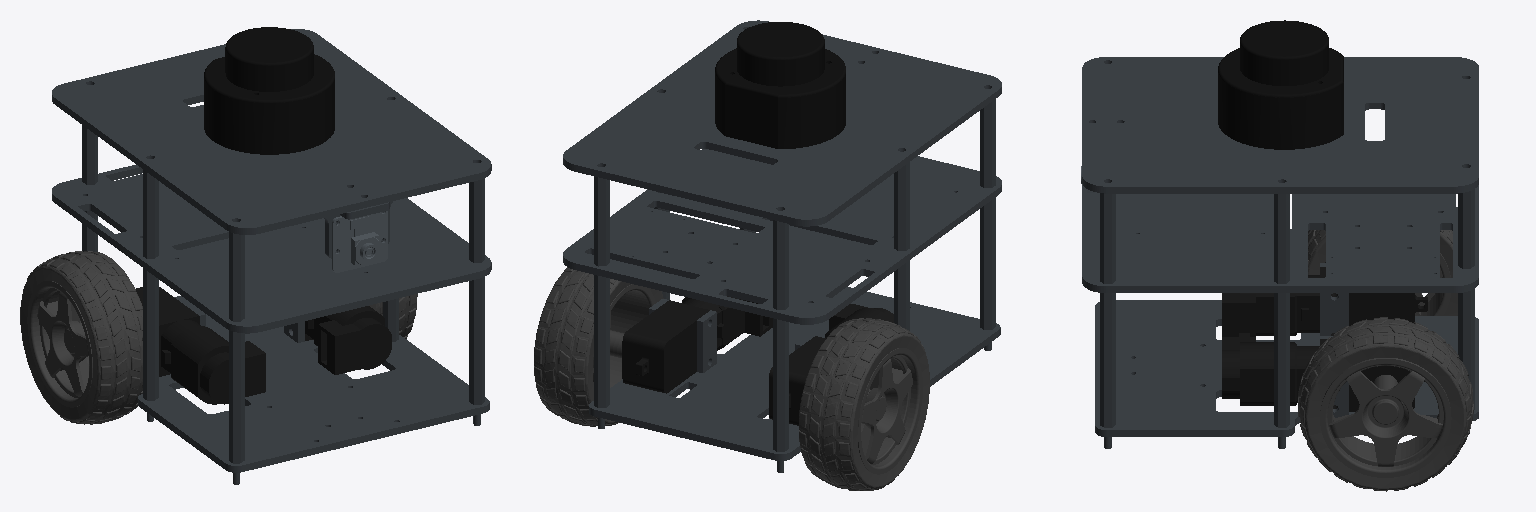
robot.urdf — fastbot:
<?xml version="1.0" ?>
<!-- Generated using onshape-to-robot -->
<!-- Onshape document_id: 4757b8f98f7afcc7c3655639 -->
<robot name="fastbot" xmlns:xacro="http://ros.org/wiki/xacro">
  <!-- <xacro:property name="PI" value="3.141592653589793" />
  <xacro:macro name="fastbot" params="robot_name"> -->


    <!-- Link fastbot_chassis -->
    <link name="base_link">
        <inertial>
            <origin xyz="1.61253e-05 0.000669263 0.059916" rpy="0 0 0"/>
            <mass value="0.24695"/>
            <inertia ixx="0.000946018" ixy="-8.62213e-08" ixz="-1.4272e-08" iyy="0.000732103" iyz="1.16569e-05" izz="0.000816741"/>
        </inertial>
        <!-- Part fastbot_chassis -->
        <visual>
            <origin xyz="0.06 -0.0698336 -0.002" rpy="0 -0 3.14159"/>
            <geometry>
                <mesh filename="package://fastbot_description/onshape/assets/fastbot_chassis.stl"/>
            </geometry>
            <material name="base_link_material">
                <color rgba="0.262745 0.282353 0.301961 1.0"/>
            </material>
        </visual>
        <collision>
            <origin xyz="0.06 -0.0698336 -0.002" rpy="0 -0 3.14159"/>
            <geometry>
                <mesh filename="package://fastbot_description/onshape/assets/fastbot_chassis.stl"/>
            </geometry>
        </collision>
    </link>
    <!-- Link motor -->
    <link name="motor">
        <inertial>
            <origin xyz="0.0067446 0.0085 -0.00855065" rpy="0 0 0"/>
            <mass value="0.0339689"/>
            <inertia ixx="2.5517e-06" ixy="-3.26147e-15" ixz="-9.70451e-07" iyy="1.80062e-05" iyz="-1.94099e-15" izz="1.80884e-05"/>
        </inertial>
        <!-- Part fastbot_motor -->
        <visual>
            <origin xyz="0.0935 -0.00775 -0.036" rpy="-1.5708 -1.5708 0"/>
            <geometry>
                <mesh filename="package://fastbot_description/onshape/assets/fastbot_motor.stl"/>
            </geometry>
            <material name="fastbot_motor_material">
                <color rgba="0.129412 0.129412 0.129412 1.0"/>
            </material>
        </visual>
        <collision>
            <origin xyz="0.0935 -0.00775 -0.036" rpy="-1.5708 -1.5708 0"/>
            <geometry>
                <mesh filename="package://fastbot_description/onshape/assets/fastbot_motor.stl"/>
            </geometry>
        </collision>
    </link>
    <!-- Link wheel_right -->
    <link name="wheel_right">
        <inertial>
            <origin xyz="0 0 0" rpy="0 0 0"/>
            <mass value="1e-09"/>
            <inertia ixx="1e-09" ixy="0" ixz="0" iyy="1e-09" iyz="0" izz="1e-09"/>
        </inertial>
        <!-- Part wheel_right -->
        <visual>
            <origin xyz="0.1135 0.0162 0.103475" rpy="1.5708 1.5708 0"/>
            <geometry>
                <mesh filename="package://fastbot_description/onshape/assets/wheel_d65x25_v1.stl"/>
            </geometry>
            <material name="wheel_right_material">
                <color rgba="0.290196 0.290196 0.290196 1.0"/>
            </material>
        </visual>
        <collision>
            <origin xyz="0.1135 0.0162 0.103475" rpy="1.5708 1.5708 0"/>
            <geometry>
                <mesh filename="package://fastbot_description/onshape/assets/wheel_d65x25_v1.stl"/>
            </geometry>
        </collision>
        <!-- Part wheel_left -->
        <visual>
            <origin xyz="0.1135 0.0162 0.1039" rpy="1.5708 1.5708 0"/>
            <geometry>
                <mesh filename="package://fastbot_description/onshape/assets/wheel_d65x25_v1__2.stl"/>
            </geometry>
            <material name="wheel_left_material">
                <color rgba="0.290196 0.290196 0.290196 1.0"/>
            </material>
        </visual>
        <collision>
            <origin xyz="0.1135 0.0162 0.1039" rpy="1.5708 1.5708 0"/>
            <geometry>
                <mesh filename="package://fastbot_description/onshape/assets/wheel_d65x25_v1__2.stl"/>
            </geometry>
        </collision>
    </link>
    <!-- Joint from motor to wheel_right -->
    <joint name="right_wheel" type="continuous">
        <origin xyz="-0.02 0.0085 -0.0191" rpy="4.35106e-30 2.46519e-32 3.14159"/>
        <parent link="motor"/>
        <child link="wheel_right"/>
        <axis xyz="0 0 1"/>
        <limit effort="10" velocity="10"/>
    </joint>
    <!-- Joint from base_link to motor -->
    <joint name="right_motor" type="fixed">
        <origin xyz="-0.024 0.0236664 0.02275" rpy="-1.5708 -2.94692e-47 -1.5708"/>
        <parent link="base_link"/>
        <child link="motor"/>
        <axis xyz="0 0 1"/>
        <limit effort="10" velocity="10"/>
    </joint>
    <!-- Link motor_2 -->
    <link name="motor_2">
        <inertial>
            <origin xyz="0.0067446 -0.0085 -0.00855065" rpy="0 0 0"/>
            <mass value="0.0339689"/>
            <inertia ixx="2.5517e-06" ixy="-3.26147e-15" ixz="-9.70451e-07" iyy="1.80062e-05" iyz="-1.94099e-15" izz="1.80884e-05"/>
        </inertial>
        <!-- Part fastbot_motor_2 -->
        <visual>
            <origin xyz="0.0935 -0.02475 -0.036" rpy="-1.5708 -1.5708 0"/>
            <geometry>
                <mesh filename="package://fastbot_description/onshape/assets/fastbot_motor.stl"/>
            </geometry>
            <material name="fastbot_motor_2_material">
                <color rgba="0.129412 0.129412 0.129412 1.0"/>
            </material>
        </visual>
        <collision>
            <origin xyz="0.0935 -0.02475 -0.036" rpy="-1.5708 -1.5708 0"/>
            <geometry>
                <mesh filename="package://fastbot_description/onshape/assets/fastbot_motor.stl"/>
            </geometry>
        </collision>
    </link>
    <!-- Link wheel_left -->
    <link name="wheel_left">
        <inertial>
            <origin xyz="0 0 0" rpy="0 0 0"/>
            <mass value="1e-09"/>
            <inertia ixx="1e-09" ixy="0" ixz="0" iyy="1e-09" iyz="0" izz="1e-09"/>
        </inertial>
        <!-- Part wheel_d65x25_v1_3 -->
        <visual>
            <origin xyz="0.1135 0.0162 0.1039" rpy="1.5708 1.5708 0"/>
            <geometry>
                <mesh filename="package://fastbot_description/onshape/assets/wheel_d65x25_v1__2.stl"/>
            </geometry>
            <material name="wheel_d65x25_v1_3_material">
                <color rgba="0.290196 0.290196 0.290196 1.0"/>
            </material>
        </visual>
        <collision>
            <origin xyz="0.1135 0.0162 0.1039" rpy="1.5708 1.5708 0"/>
            <geometry>
                <mesh filename="package://fastbot_description/onshape/assets/wheel_d65x25_v1__2.stl"/>
            </geometry>
        </collision>
        <!-- Part wheel_d65x25_v1_4 -->
        <visual>
            <origin xyz="0.1135 0.0162 0.104325" rpy="1.5708 1.5708 0"/>
            <geometry>
                <mesh filename="package://fastbot_description/onshape/assets/wheel_d65x25_v1.stl"/>
            </geometry>
            <material name="wheel_d65x25_v1_4_material">
                <color rgba="0.290196 0.290196 0.290196 1.0"/>
            </material>
        </visual>
        <collision>
            <origin xyz="0.1135 0.0162 0.104325" rpy="1.5708 1.5708 0"/>
            <geometry>
                <mesh filename="package://fastbot_description/onshape/assets/wheel_d65x25_v1.stl"/>
            </geometry>
        </collision>
    </link>
    <!-- Joint from motor_2 to wheel_left -->
    <joint name="left_wheel" type="continuous">
        <origin xyz="-0.02 -0.0085 -0.0191" rpy="-1.2326e-32 -1.54074e-33 3.14159"/>
        <parent link="motor_2"/>
        <child link="wheel_left"/>
        <axis xyz="0 0 1"/>
        <limit effort="10" velocity="10"/>
    </joint>
    <!-- Joint from base_link to motor_2 -->
    <joint name="left_motor" type="fixed">
        <origin xyz="0.024 0.0236664 0.02275" rpy="1.5708 -2.96391e-30 -1.5708"/>
        <parent link="base_link"/>
        <child link="motor_2"/>
        <axis xyz="0 0 1"/>
        <limit effort="10" velocity="10"/>
    </joint>
    <!-- Link n10_v2 -->
    <link name="n10_v2">
        <inertial>
            <origin xyz="0 0 0" rpy="0 0 0"/>
            <mass value="1e-09"/>
            <inertia ixx="1e-09" ixy="0" ixz="0" iyy="1e-09" iyz="0" izz="1e-09"/>
        </inertial>
        <!-- Part n10_v2 -->
        <visual>
            <origin xyz="-0.074 -0.06 0.11" rpy="-3.14159 5.94511e-32 -8.90522e-65"/>
            <geometry>
                <mesh filename="package://fastbot_description/onshape/assets/n10_v2.stl"/>
            </geometry>
            <material name="n10_v2_material">
                <color rgba="0.0980392 0.0980392 0.0980392 1.0"/>
            </material>
        </visual>
        <collision>
            <origin xyz="-0.074 -0.06 0.11" rpy="-3.14159 5.94511e-32 -8.90522e-65"/>
            <geometry>
                <mesh filename="package://fastbot_description/onshape/assets/n10_v2.stl"/>
            </geometry>
        </collision>
    </link>
    <!-- Joint from base_link to n10_v2 -->
    <joint name="lidar" type="fixed">
        <origin xyz="-0.014 -0.00983363 0.108" rpy="3.14159 1.13983e-46 -3.14159"/>
        <parent link="base_link"/>
        <child link="n10_v2"/>
        <axis xyz="0 0 1"/>
        <limit effort="10" velocity="10"/>
    </joint>
    <!-- Link camera -->
    <link name="camera">
        <inertial>
            <origin xyz="0 0 0" rpy="0 0 0"/>
            <mass value="1e-09"/>
            <inertia ixx="1e-09" ixy="0" ixz="0" iyy="1e-09" iyz="0" izz="1e-09"/>
        </inertial>
        <!-- Part camera -->
        <visual>
            <origin xyz="-0.0105 0.0125 -0.00212" rpy="3.14159 -3.05067e-31 -1.55575e-61"/>
            <geometry>
                <mesh filename="package://fastbot_description/onshape/assets/part_33.stl"/>
            </geometry>
            <material name="camera_material">
                <color rgba="0.34902 0.376471 0.4 1.0"/>
            </material>
        </visual>
        <collision>
            <origin xyz="-0.0105 0.0125 -0.00212" rpy="3.14159 -3.05067e-31 -1.55575e-61"/>
            <geometry>
                <mesh filename="package://fastbot_description/onshape/assets/part_33.stl"/>
            </geometry>
        </collision>
    </link>
    <!-- Joint from base_link to camera -->
    <joint name="camera" type="fixed">
        <origin xyz="0.0105 -0.0668336 0.09765" rpy="-1.5708 1.14468e-45 6.41848e-15"/>
        <parent link="base_link"/>
        <child link="camera"/>
        <axis xyz="0 0 1"/>
        <limit effort="10" velocity="10"/>
    </joint>

  <!-- </xacro:macro> -->

</robot>

--- Render facts (derived) ---
Views: 3 orthographic renders of the robot side by side, from view 1: azimuth 30°, elevation 25°; view 2: azimuth 150°, elevation 25°; view 3: azimuth 270°, elevation 25°.
Robot: fastbot — 7 links, 6 joints (2 continuous, 4 fixed); root link base_link; default pose: every joint at zero.
Visible links, largest first — view 1: base_link, wheel_right, n10_v2, motor, motor_2, camera, wheel_left; view 2: base_link, wheel_right, n10_v2, wheel_left, motor_2, motor; view 3: base_link, wheel_left, n10_v2, motor, motor_2, wheel_right.
Link boxes in pixels (left/top/right/bottom): base_link: left=52, top=29, right=491, bottom=484; wheel_right: left=20, top=251, right=142, bottom=424; n10_v2: left=204, top=27, right=334, bottom=154; motor: left=136, top=287, right=265, bottom=404; motor_2: left=305, top=306, right=391, bottom=374; camera: left=332, top=211, right=387, bottom=272; wheel_left: left=369, top=294, right=417, bottom=338; base_link: left=563, top=20, right=1001, bottom=472; wheel_right: left=799, top=318, right=929, bottom=490; n10_v2: left=715, top=22, right=845, bottom=148; wheel_left: left=534, top=267, right=663, bottom=426; motor_2: left=622, top=296, right=772, bottom=393; motor: left=769, top=304, right=893, bottom=425; base_link: left=1082, top=57, right=1478, bottom=448; wheel_left: left=1298, top=317, right=1473, bottom=491; n10_v2: left=1218, top=20, right=1343, bottom=149; motor: left=1222, top=267, right=1427, bottom=336; motor_2: left=1222, top=337, right=1424, bottom=411; wheel_right: left=1308, top=230, right=1457, bottom=315.
Size in the robot's own frame: 0.1465 by 0.1556 by 0.1641 metres.
Meshes: 6 distinct files referenced, 9 mesh visuals loaded (6 binary STL).
